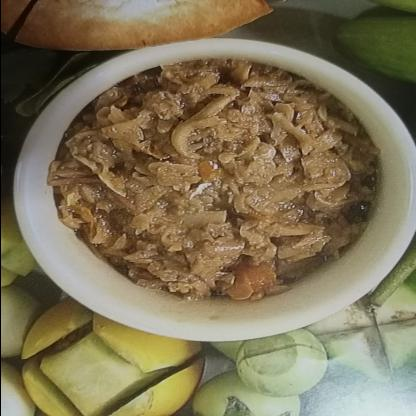Namprig: (40, 54, 380, 318)
